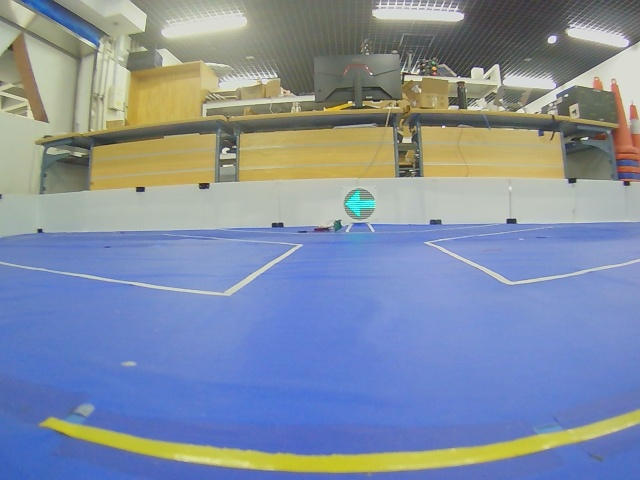left_green: (343, 188, 376, 221)
